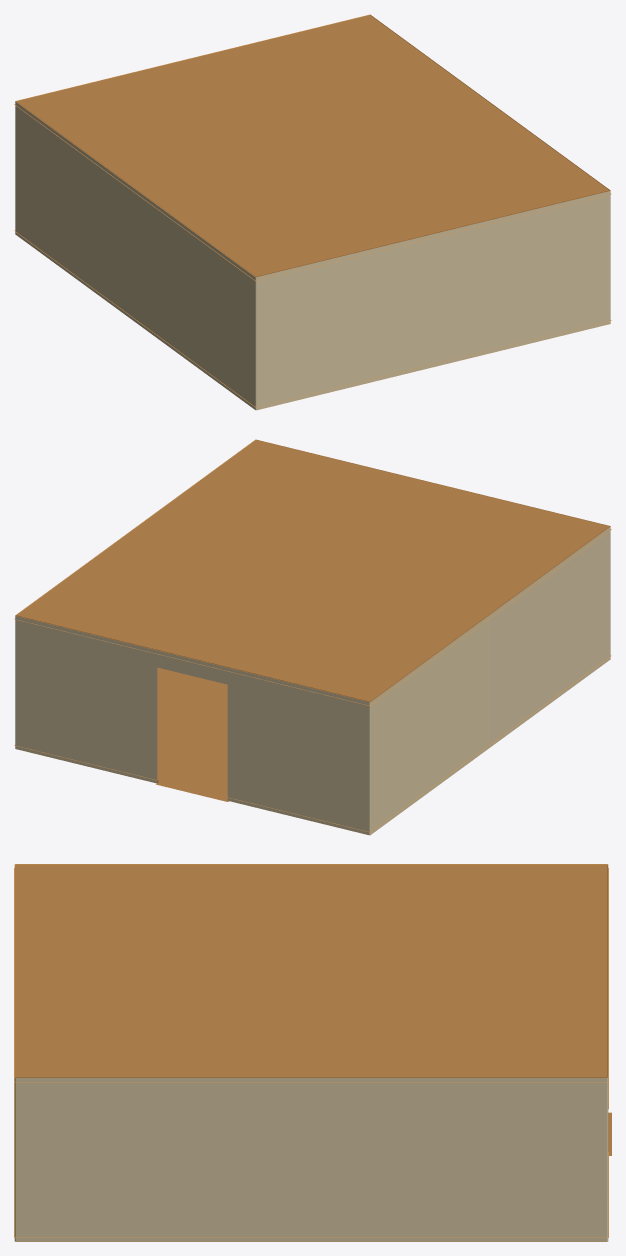
File: tutorialhuone_01.fbx
3 renders of one model, top to bottom at view 1: azimuth 30°, elevation 25°; view 2: azimuth 150°, elevation 25°; view 3: azimuth 270°, elevation 25°, orthographic. The views are drawn at different scales.
Visible parts, largest first — view 1: lattia_tutorial_01, seina_tutorial_01; view 2: lattia_tutorial_01, seina_tutorial_01; view 3: lattia_tutorial_01, seina_tutorial_01.
Boxes of the visible parts, <box> form: lattia_tutorial_01: <box>15,14,610,323</box>; seina_tutorial_01: <box>14,14,611,410</box>; lattia_tutorial_01: <box>15,439,610,801</box>; seina_tutorial_01: <box>14,439,611,835</box>; lattia_tutorial_01: <box>14,864,611,1241</box>; seina_tutorial_01: <box>14,864,608,1241</box>.
Size of the model in its own units: 702 by 252 by 828.
